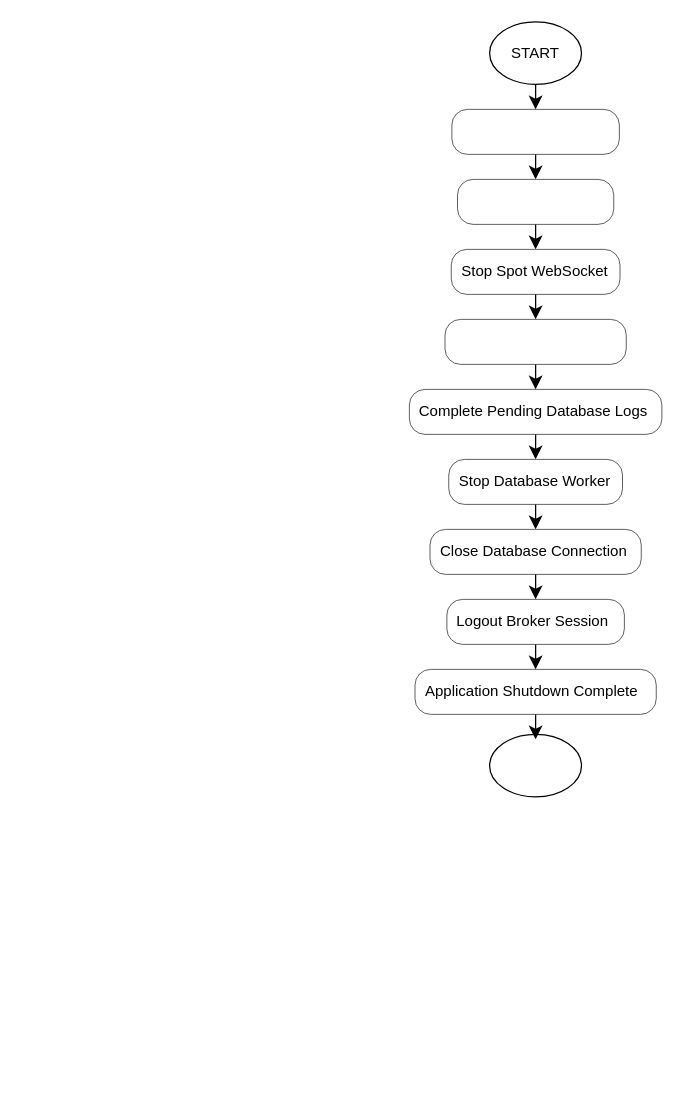
This 684x1119 diagram has some shape labels left out. The shapes that lost their labels are listed below. From the top down, each one's centre as x and y in pixels, then its label:
At point 535,131: "Shutdown Requested".
At point 535,201: "Check Active Trade".
At point 535,341: "Stop Option WebSocket".
At point 535,765: "END".
